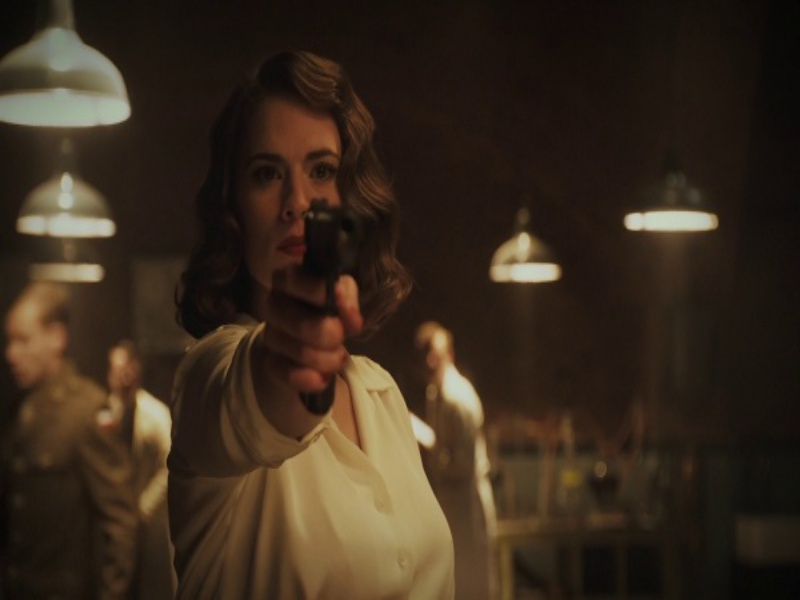person: (177, 49, 456, 593), (1, 290, 139, 594), (404, 319, 494, 586)
weapon: (304, 201, 360, 415)
